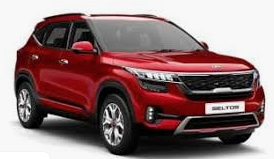car: (11, 11, 266, 156)
